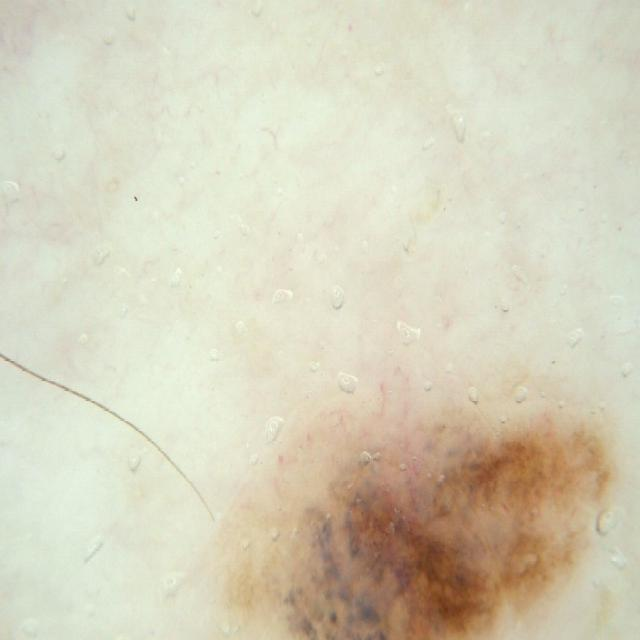Melanoma: (241, 334, 616, 640)
